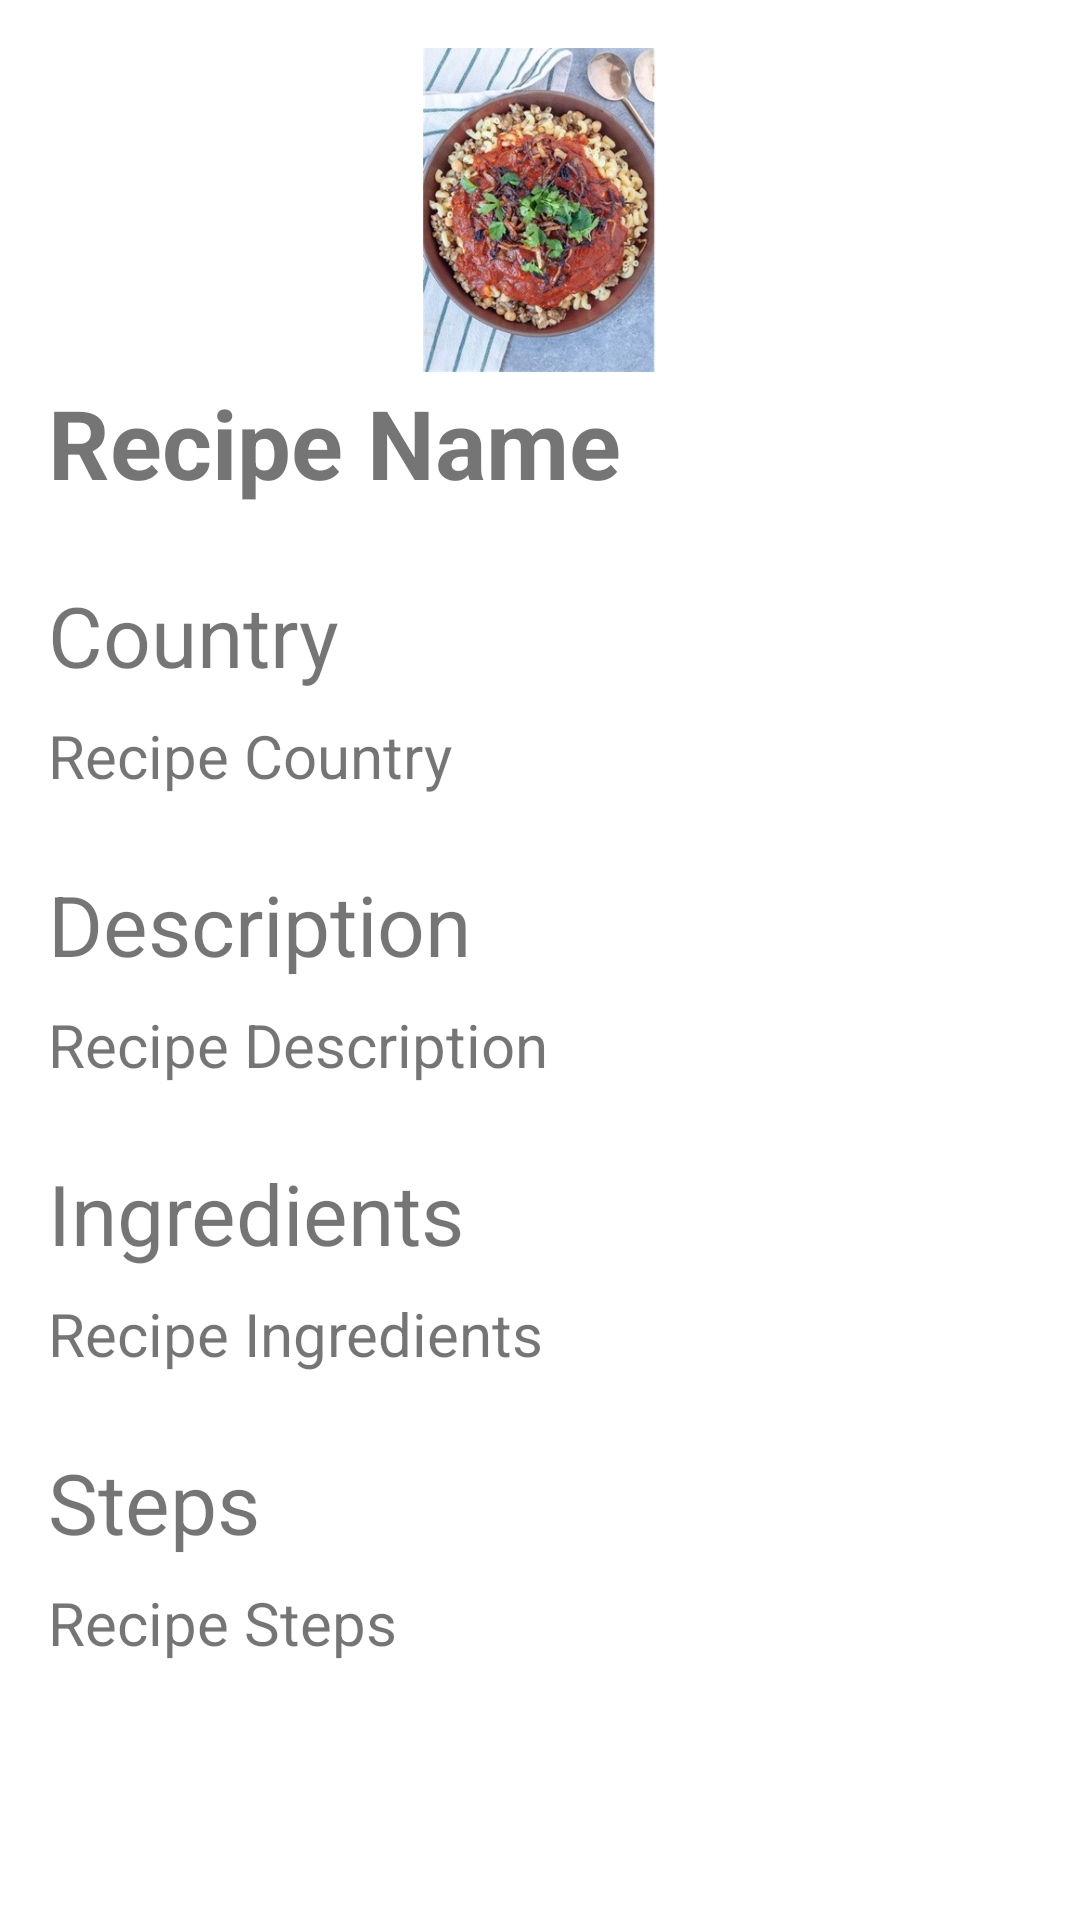

Where icons sit on this 1080*1920 app screen, as [left=x1, top=y1, right=x2, bottom=y2]:
recipe koshari: [left=423, top=48, right=655, bottom=372]
